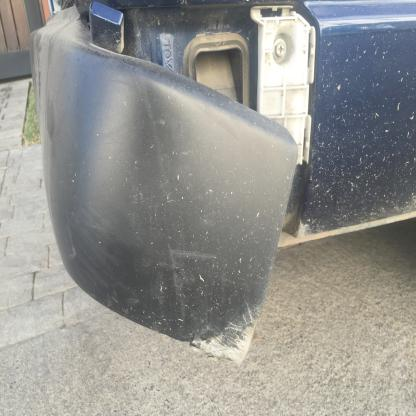Car: (29, 0, 415, 365)
